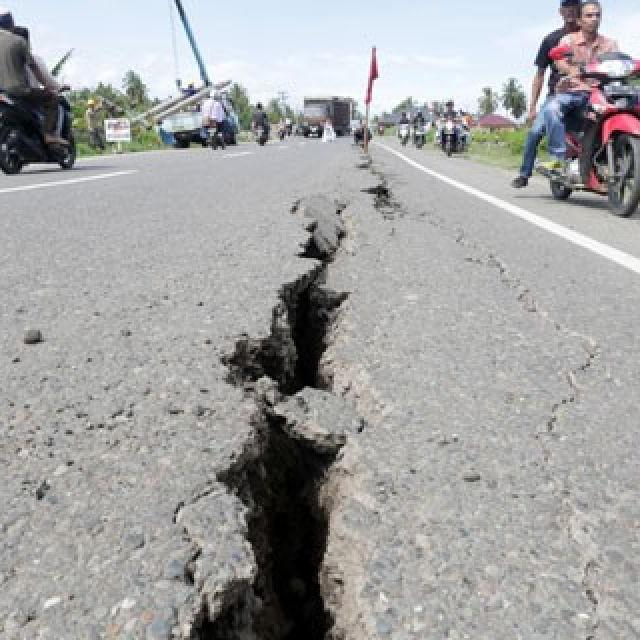retak_memanjang: (134, 216, 402, 640), (442, 242, 640, 640), (346, 158, 422, 230)
